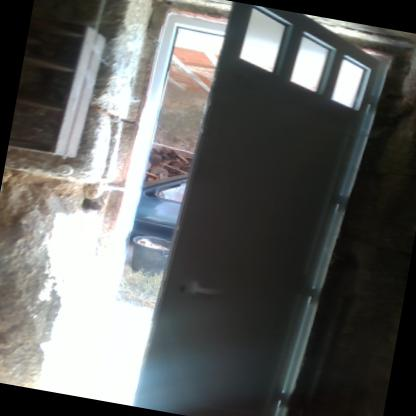semi: (56, 0, 384, 415)
